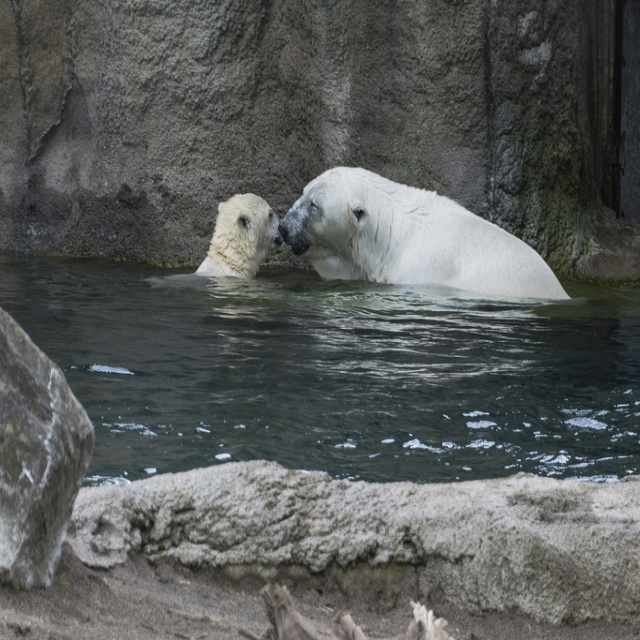Polar bear: (276, 163, 568, 297), (196, 195, 283, 277)
